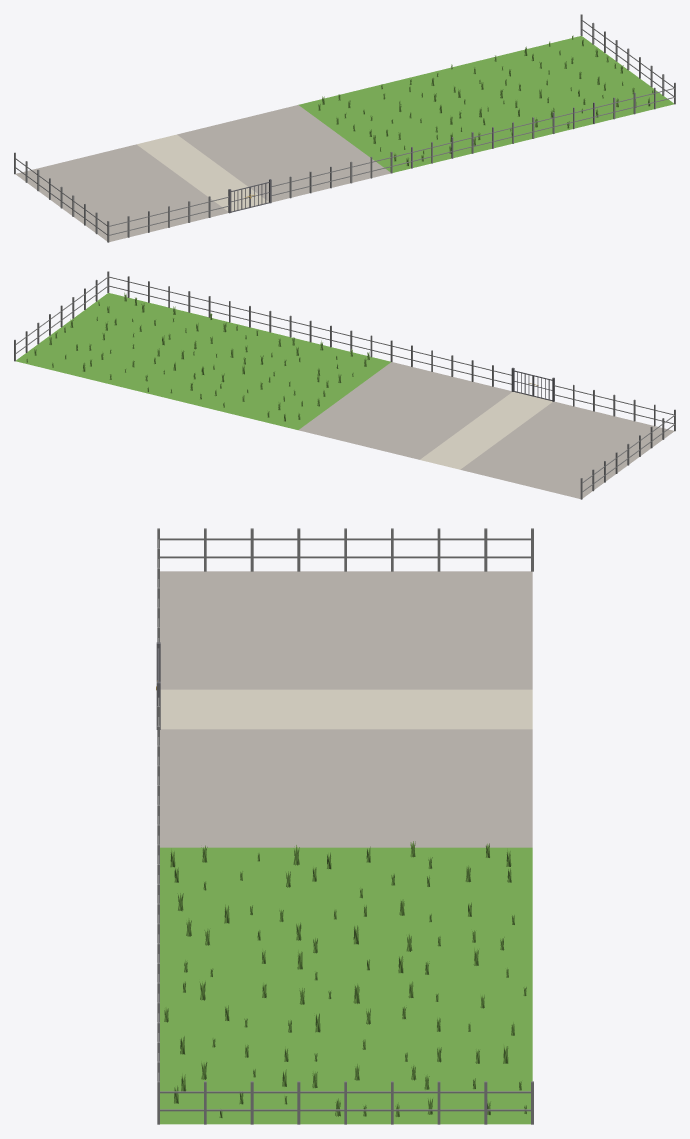
Rendered from Courtyard.fbx.
3 views of the same model, one above another, from view 1: azimuth 30°, elevation 25°; view 2: azimuth 150°, elevation 25°; view 3: azimuth 270°, elevation 25° (orthographic). The views are drawn at different scales.
Visible parts, largest first — view 1: Floor_Grassland, Floor_Concrete2, Floor_Concrete1, Floor_Footpath, Cube.053, Cube.054; view 2: Floor_Grassland, Floor_Concrete2, Floor_Concrete1, Floor_Footpath, Cube.053, Cube.054; view 3: Floor_Grassland, Floor_Concrete1, Floor_Concrete2, Floor_Footpath, Cube.039, Cube.040, Cube.049, Cube.050.
Boxes of the visible parts, <box> form: Floor_Grassland: <box>298,36,673,172</box>; Floor_Concrete2: <box>177,105,390,202</box>; Floor_Concrete1: <box>15,144,228,241</box>; Floor_Footpath: <box>137,134,268,211</box>; Cube.053: <box>271,97,674,195</box>; Cube.054: <box>271,88,674,186</box>; Floor_Grassland: <box>16,293,390,429</box>; Floor_Concrete2: <box>298,362,511,459</box>; Floor_Concrete1: <box>460,401,674,498</box>; Floor_Footpath: <box>420,392,552,469</box>; Cube.053: <box>109,285,511,384</box>; Cube.054: <box>109,276,511,375</box>; Floor_Grassland: <box>160,847,532,1124</box>; Floor_Concrete1: <box>160,571,532,689</box>; Floor_Concrete2: <box>160,729,532,847</box>; Floor_Footpath: <box>160,689,532,729</box>; Cube.039: <box>160,556,530,558</box>; Cube.040: <box>160,538,530,540</box>; Cube.049: <box>160,1109,530,1111</box>; Cube.050: <box>160,1091,530,1093</box>.
Bounding box in the file's own units: 5612 × 220 × 1617.
